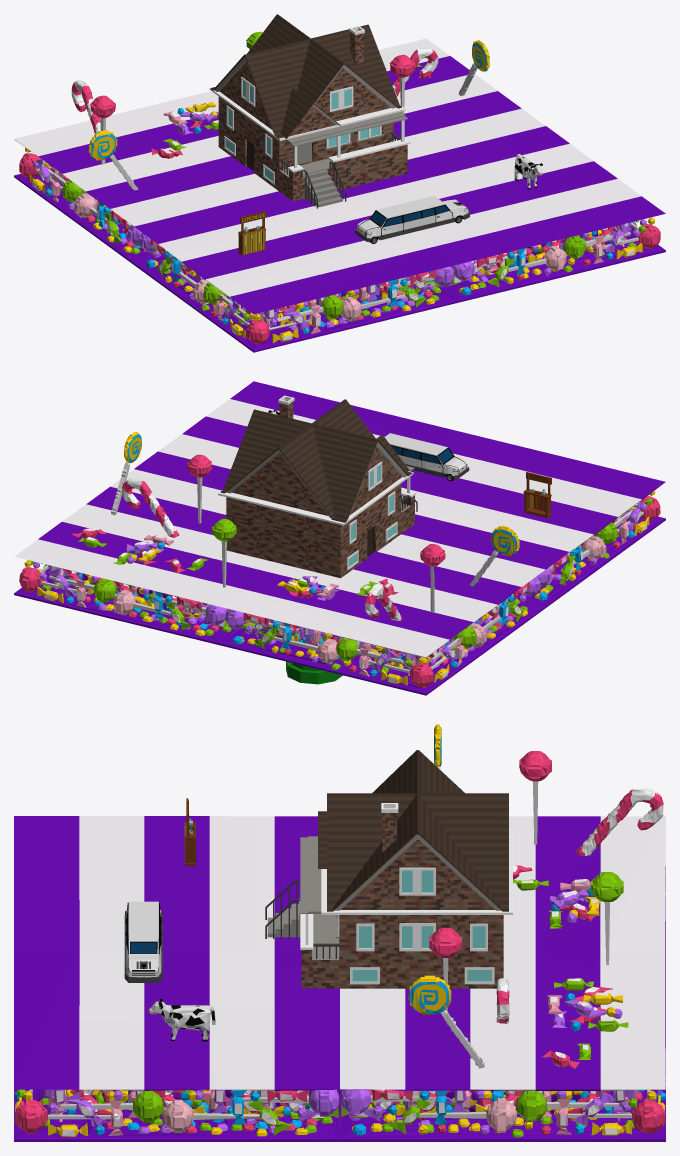
The picture shows the model from 3 angles, top to bottom: view 1: azimuth 30°, elevation 25°; view 2: azimuth 150°, elevation 25°; view 3: azimuth 270°, elevation 25°; orthographic projection. The views are drawn at different scales.
Visible parts, largest first — view 1: TERRAIN_CANDY, Cube.117, VEHICLES_LIMOUSINE, OBJRANDOM_LEMONADE_STAND, ANIMAL_VACA; view 2: TERRAIN_CANDY, Cube.117, VEHICLES_LIMOUSINE, OBJRANDOM_LEMONADE_STAND, UNDERGROUND_PIPES; view 3: TERRAIN_CANDY, Cube.117, VEHICLES_LIMOUSINE, ANIMAL_VACA, OBJRANDOM_LEMONADE_STAND.
Part boxes in pixels (box(x1,y1,x2,y2)): TERRAIN_CANDY: box(14, 31, 665, 352); Cube.117: box(209, 14, 410, 208); VEHICLES_LIMOUSINE: box(355, 196, 469, 243); OBJRANDOM_LEMONADE_STAND: box(238, 211, 266, 255); ANIMAL_VACA: box(514, 154, 542, 189); TERRAIN_CANDY: box(14, 381, 665, 695); Cube.117: box(218, 395, 417, 578); VEHICLES_LIMOUSINE: box(375, 433, 469, 481); OBJRANDOM_LEMONADE_STAND: box(523, 472, 551, 518); UNDERGROUND_PIPES: box(286, 661, 342, 684); TERRAIN_CANDY: box(14, 724, 665, 1141); Cube.117: box(265, 750, 512, 988); VEHICLES_LIMOUSINE: box(124, 901, 162, 982); ANIMAL_VACA: box(148, 999, 215, 1041); OBJRANDOM_LEMONADE_STAND: box(184, 798, 195, 866).
Bounding box in the file's own units: 4059 × 2168 × 4000.
30 materials, 3 textured.
